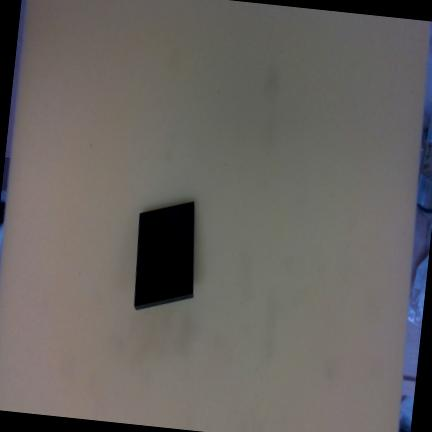tile: (134, 199, 194, 307)
